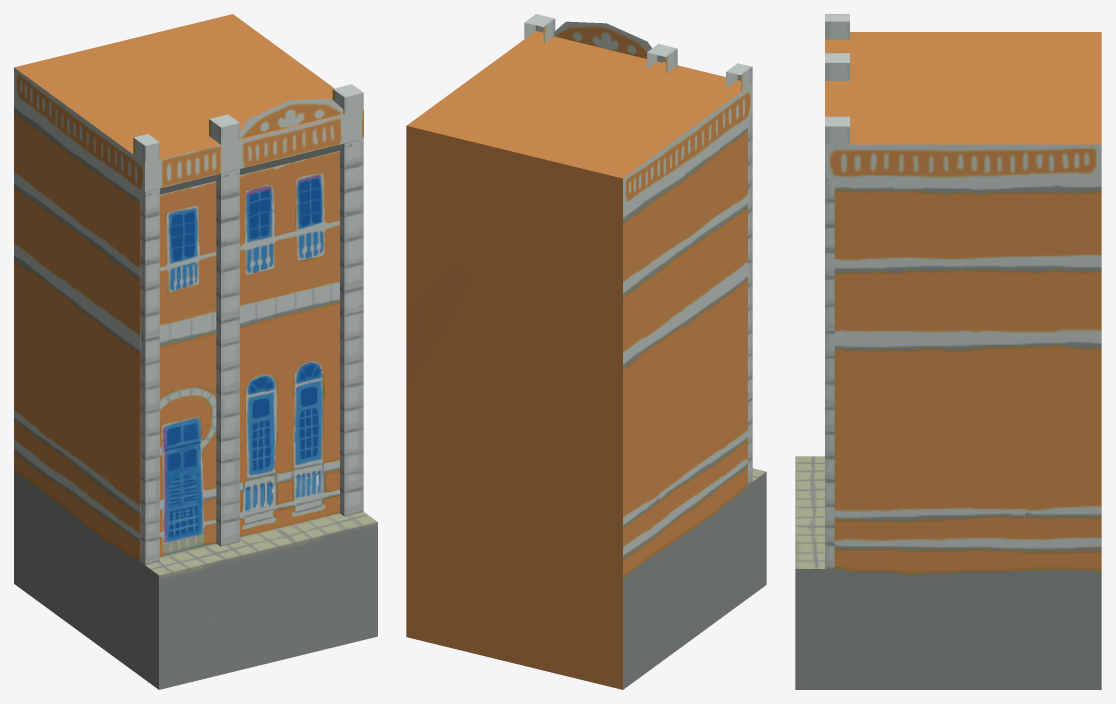
Rendered from Predio_Antigo_5.glb.
3 renders of one model, left to right at view 1: azimuth 30°, elevation 25°; view 2: azimuth 150°, elevation 25°; view 3: azimuth 270°, elevation 25°, orthographic. The views are drawn at different scales.
Visible parts, largest first — view 1: Predio_Antigo_5; view 2: Predio_Antigo_5; view 3: Predio_Antigo_5.
Boxes of the visible parts, left/top/right/bottom form: Predio_Antigo_5: left=14, top=14, right=377, bottom=689; Predio_Antigo_5: left=406, top=14, right=766, bottom=689; Predio_Antigo_5: left=795, top=14, right=1101, bottom=689.
Bounding box in the file's own units: 2 × 4.74 × 2.29.
Materials: 1 (1 with a texture image).
